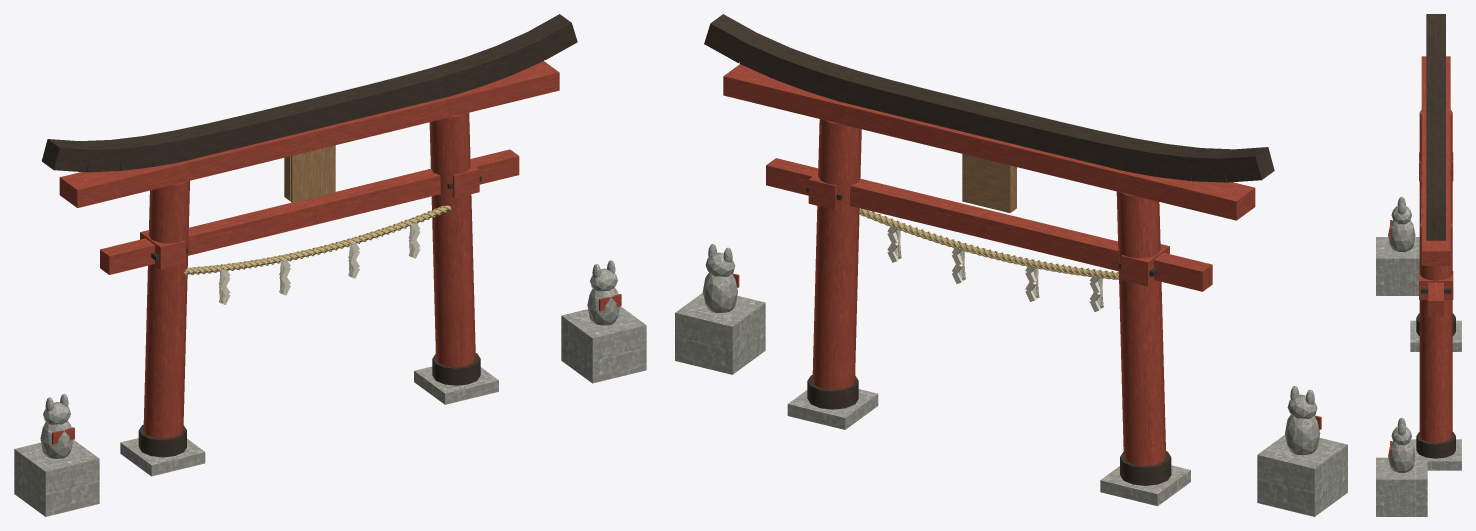
Rendered from shrine_torii-exterior-refined-v1.glb.
The picture shows the model from 3 angles, left to right: view 1: azimuth 30°, elevation 25°; view 2: azimuth 150°, elevation 25°; view 3: azimuth 270°, elevation 25°; orthographic projection. The views are drawn at different scales.
Visible parts, largest first — view 1: shrine_torii_01_原有建筑轮廓与构件_EX_a84835_fine_grained_wood_surfac, shrine_torii_01_原有建筑轮廓与构件_EX_41362b_fine_grained_wood_surfac, shrine_torii_01_原有建筑轮廓与构件_EX_a4a49a_dark_rock_surface, shrine_torii_04_石材绿植与陈设_EX_a4a49a_dark_rock_surface, shrine_torii_01_原有建筑轮廓与构件_EX_a17c51_fine_grained_wood_surfac, shrine_torii_21_鸟居注连绳与楔钉_EX_c6ae78_rough_linen_surface, shrine_torii_01_原有建筑轮廓与构件_EX_e6deca_plain_surface, shrine_torii_01_原有建筑轮廓与构件_EX_c6ae78_rough_linen_surface; view 2: shrine_torii_01_原有建筑轮廓与构件_EX_a84835_fine_grained_wood_surfac, shrine_torii_01_原有建筑轮廓与构件_EX_41362b_fine_grained_wood_surfac, shrine_torii_01_原有建筑轮廓与构件_EX_a4a49a_dark_rock_surface, shrine_torii_04_石材绿植与陈设_EX_a4a49a_dark_rock_surface, shrine_torii_01_原有建筑轮廓与构件_EX_a17c51_fine_grained_wood_surfac, shrine_torii_21_鸟居注连绳与楔钉_EX_c6ae78_rough_linen_surface, shrine_torii_01_原有建筑轮廓与构件_EX_e6deca_plain_surface, shrine_torii_01_原有建筑轮廓与构件_EX_c6ae78_rough_linen_surface; view 3: shrine_torii_01_原有建筑轮廓与构件_EX_a84835_fine_grained_wood_surfac, shrine_torii_01_原有建筑轮廓与构件_EX_a4a49a_dark_rock_surface, shrine_torii_01_原有建筑轮廓与构件_EX_41362b_fine_grained_wood_surfac, shrine_torii_04_石材绿植与陈设_EX_a4a49a_dark_rock_surface.
Boxes of the visible parts, left/top/right/bottom form: shrine_torii_01_原有建筑轮廓与构件_EX_a84835_fine_grained_wood_surfac: left=52, top=61, right=621, bottom=444; shrine_torii_01_原有建筑轮廓与构件_EX_41362b_fine_grained_wood_surfac: left=42, top=14, right=577, bottom=457; shrine_torii_01_原有建筑轮廓与构件_EX_a4a49a_dark_rock_surface: left=14, top=306, right=646, bottom=516; shrine_torii_04_石材绿植与陈设_EX_a4a49a_dark_rock_surface: left=40, top=260, right=620, bottom=458; shrine_torii_01_原有建筑轮廓与构件_EX_a17c51_fine_grained_wood_surfac: left=284, top=145, right=335, bottom=202; shrine_torii_21_鸟居注连绳与楔钉_EX_c6ae78_rough_linen_surface: left=183, top=205, right=451, bottom=275; shrine_torii_01_原有建筑轮廓与构件_EX_e6deca_plain_surface: left=218, top=221, right=420, bottom=304; shrine_torii_01_原有建筑轮廓与构件_EX_c6ae78_rough_linen_surface: left=185, top=205, right=450, bottom=274; shrine_torii_01_原有建筑轮廓与构件_EX_a84835_fine_grained_wood_surfac: left=723, top=64, right=1321, bottom=465; shrine_torii_01_原有建筑轮廓与构件_EX_41362b_fine_grained_wood_surfac: left=704, top=14, right=1274, bottom=485; shrine_torii_01_原有建筑轮廓与构件_EX_a4a49a_dark_rock_surface: left=675, top=292, right=1347, bottom=516; shrine_torii_04_石材绿植与陈设_EX_a4a49a_dark_rock_surface: left=702, top=244, right=1320, bottom=455; shrine_torii_01_原有建筑轮廓与构件_EX_a17c51_fine_grained_wood_surfac: left=962, top=154, right=1016, bottom=212; shrine_torii_21_鸟居注连绳与楔钉_EX_c6ae78_rough_linen_surface: left=859, top=208, right=1118, bottom=279; shrine_torii_01_原有建筑轮廓与构件_EX_e6deca_plain_surface: left=887, top=226, right=1102, bottom=311; shrine_torii_01_原有建筑轮廓与构件_EX_c6ae78_rough_linen_surface: left=859, top=208, right=1118, bottom=278; shrine_torii_01_原有建筑轮廓与构件_EX_a84835_fine_grained_wood_surfac: left=1390, top=56, right=1453, bottom=458; shrine_torii_01_原有建筑轮廓与构件_EX_a4a49a_dark_rock_surface: left=1376, top=237, right=1461, bottom=516; shrine_torii_01_原有建筑轮廓与构件_EX_41362b_fine_grained_wood_surfac: left=1416, top=14, right=1455, bottom=458; shrine_torii_04_石材绿植与陈设_EX_a4a49a_dark_rock_surface: left=1388, top=196, right=1415, bottom=472.
Size of the model in its own units: 16.7 by 9.08 by 2.5.
Materials: 7 (6 with a texture image).
